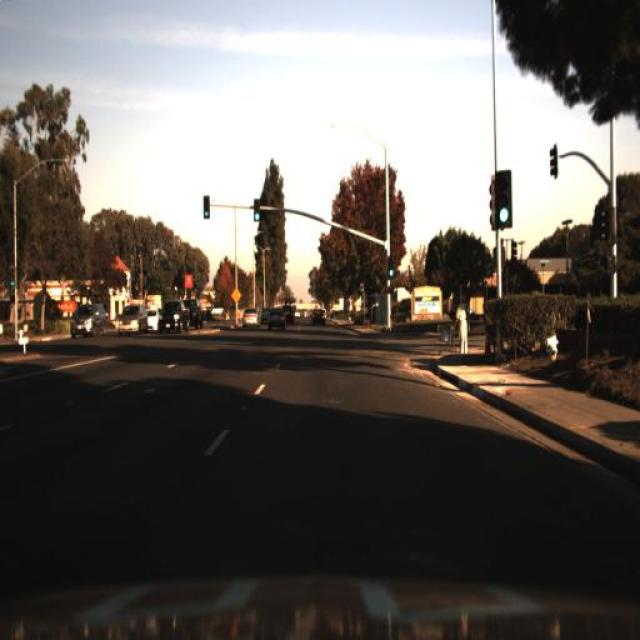car: (61, 302, 104, 342), (152, 298, 192, 334), (114, 299, 150, 337), (158, 299, 188, 335), (178, 294, 204, 328), (265, 302, 287, 334), (238, 304, 261, 330), (310, 303, 328, 333), (276, 301, 295, 328)
trafficLight: (455, 300, 471, 356)
trafficLight-GreenLeft: (493, 169, 515, 230), (494, 169, 512, 237), (252, 196, 262, 222), (386, 255, 396, 280), (253, 197, 261, 225), (386, 258, 395, 282)
trafficLight-Red: (200, 192, 212, 220), (202, 190, 212, 221)
